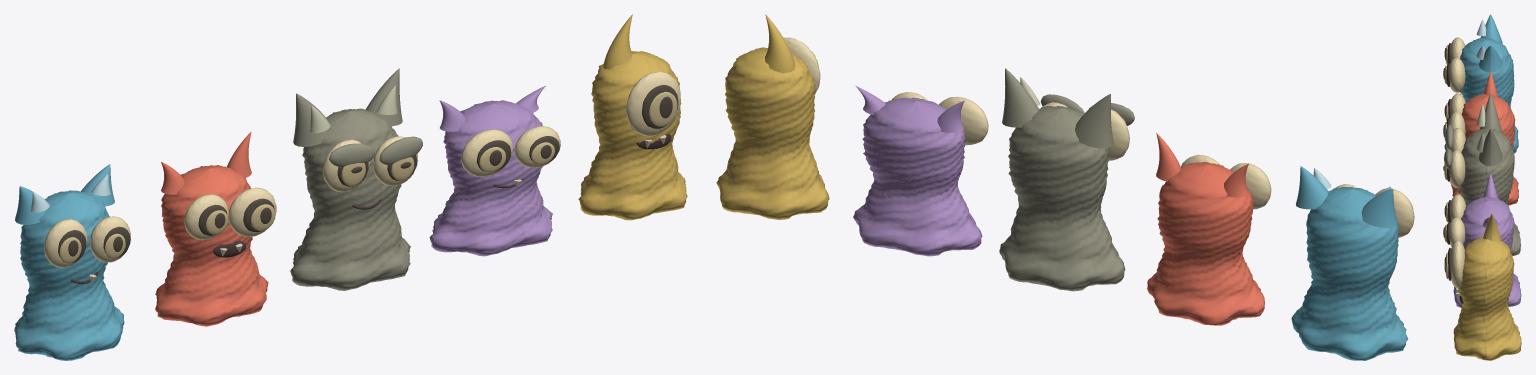
Rendered from little-misfits-lineup-v002.glb.
3 renders of one model, left to right at view 1: azimuth 30°, elevation 25°; view 2: azimuth 150°, elevation 25°; view 3: azimuth 270°, elevation 25°, orthographic. The views are drawn at different scales.
Parts seen in each view (by area): view 1: Single sculpted body with puddled scallop hem (×5), Hand pressed oversized cream eye (×9), Soft pointed cat ear (×4), Heavy sleepy eyelid (×2), Crooked clay devil horn (×2), One curled horn, Moss — The sleepy old soul, Uneven clay button iris, Blu — The curious one, Dark recessed eye rim; view 2: Single sculpted body with puddled scallop hem (×5), Soft pointed cat ear (×4), Hand pressed oversized cream eye (×5), Crooked clay devil horn (×3), One curled horn; view 3: Single sculpted body with puddled scallop hem (×5), Hand pressed oversized cream eye (×9), Soft pointed cat ear (×4), Dark recessed eye rim (×5), Crooked clay devil horn (×2), Heavy sleepy eyelid (×2), One curled horn, Moss — The sleepy old soul, Blu — The curious one.
Boxes of the visible parts, <box> form: Single sculpted body with puddled scallop hem (×5): <box>14,51,687,360</box>; Hand pressed oversized cream eye (×9): <box>44,71,680,267</box>; Soft pointed cat ear (×4): <box>15,68,402,224</box>; Heavy sleepy eyelid (×2): <box>329,136,422,167</box>; Crooked clay devil horn (×2): <box>227,100,465,177</box>; One curled horn: <box>603,14,632,69</box>; Moss — The sleepy old soul: <box>310,85,397,133</box>; Uneven clay button iris: <box>649,91,677,126</box>; Blu — The curious one: <box>31,174,110,212</box>; Dark recessed eye rim: <box>642,84,678,128</box>; Single sculpted body with puddled scallop hem (×5): <box>716,47,1407,360</box>; Soft pointed cat ear (×4): <box>1002,68,1397,228</box>; Hand pressed oversized cream eye (×5): <box>783,37,1414,237</box>; Crooked clay devil horn (×3): <box>937,100,1248,197</box>; One curled horn: <box>765,14,795,73</box>; Single sculpted body with puddled scallop hem (×5): <box>1450,37,1521,360</box>; Hand pressed oversized cream eye (×9): <box>1450,37,1466,288</box>; Soft pointed cat ear (×4): <box>1479,14,1502,166</box>; Dark recessed eye rim (×5): <box>1446,43,1451,280</box>; Crooked clay devil horn (×2): <box>1483,71,1498,198</box>; Heavy sleepy eyelid (×2): <box>1444,124,1453,168</box>; One curled horn: <box>1483,214,1501,242</box>; Moss — The sleepy old soul: <box>1476,103,1485,152</box>; Blu — The curious one: <box>1476,19,1486,59</box>.
Bounding box in the file's own units: 4.83 × 1.28 × 0.6793.
